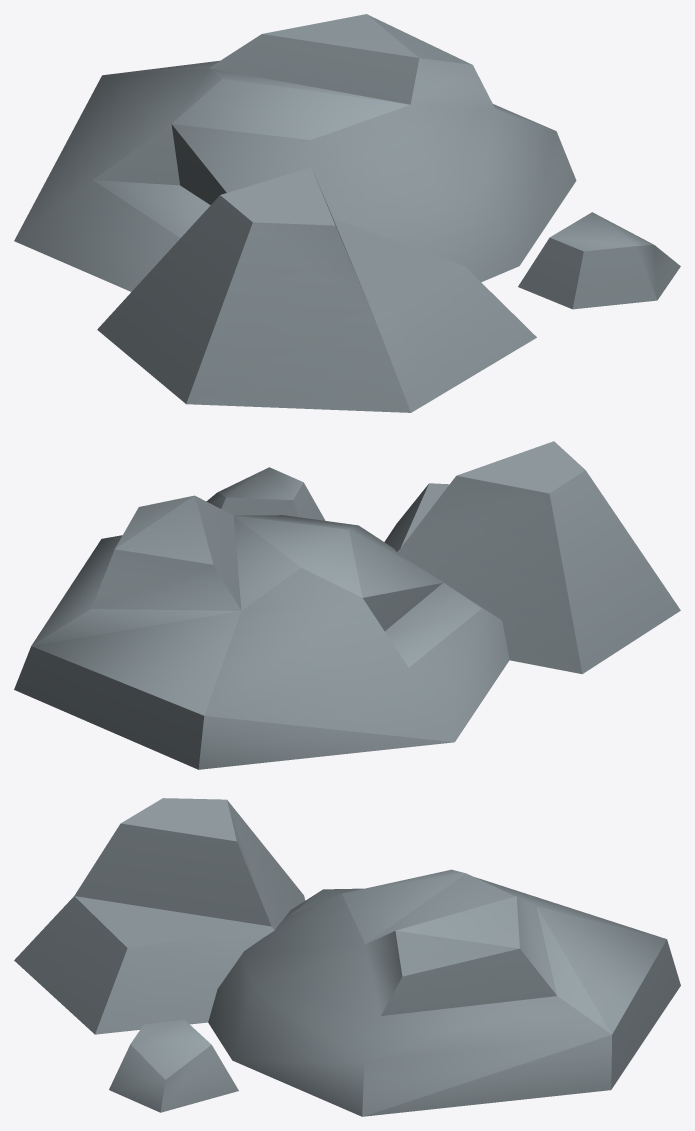
File: rocks_a.glb
The picture shows the model from 3 angles, top to bottom: view 1: azimuth 30°, elevation 25°; view 2: azimuth 150°, elevation 25°; view 3: azimuth 270°, elevation 25°; orthographic projection. The views are drawn at different scales.
Visible parts, largest first — view 1: rocks_A; view 2: rocks_A; view 3: rocks_A.
Part boxes in pixels (<box>): rocks_A: <box>14,14,680,412</box>; rocks_A: <box>14,441,680,769</box>; rocks_A: <box>14,798,680,1116</box>.
Bounding box in the file's own units: 3.94 × 1.06 × 4.93.
1 material, 1 textured.
